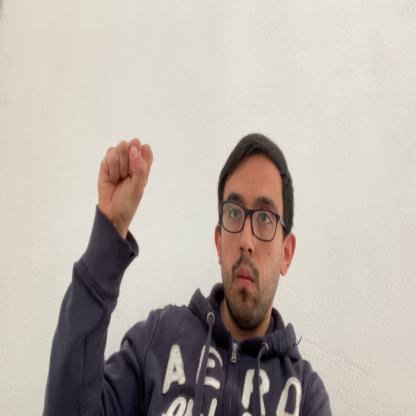S: (99, 139, 153, 221)
